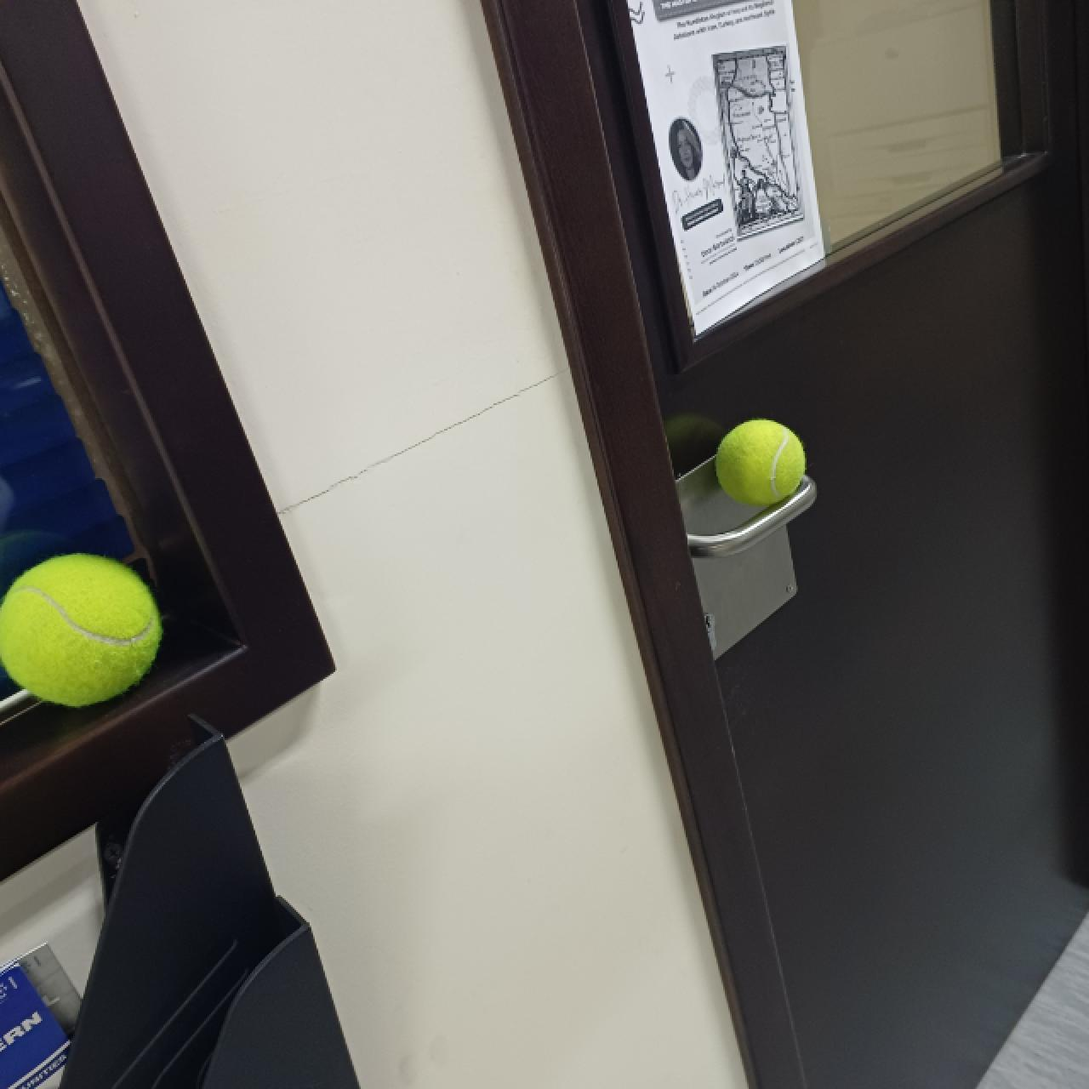tennis-ball: (0, 551, 162, 708), (713, 419, 807, 507)
